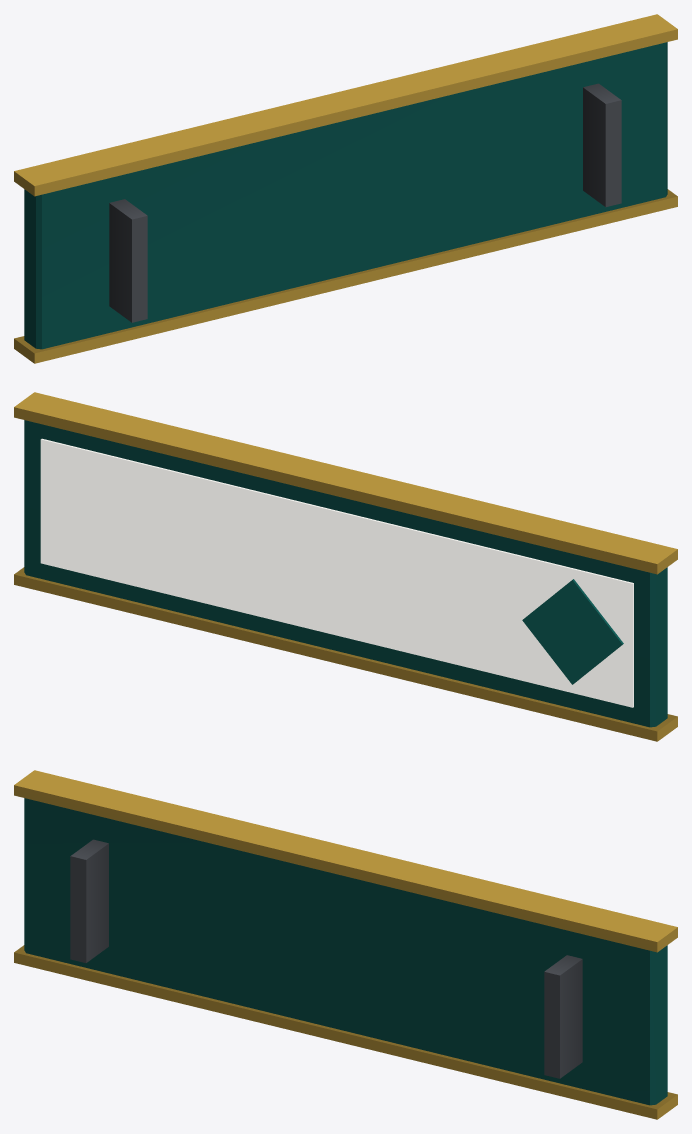
The model's file is sign_building_01.glb.
The picture shows the model from 3 angles, top to bottom: view 1: azimuth 30°, elevation 25°; view 2: azimuth 150°, elevation 25°; view 3: azimuth 330°, elevation 25°; orthographic projection.
Visible parts, largest first — view 1: sign_building_01_mesh; view 2: sign_building_01_lamp, sign_building_01_mesh; view 3: sign_building_01_mesh.
Part boxes in pixels (x1,y1,x2,y2): sign_building_01_mesh: [14, 14, 677, 363]; sign_building_01_lamp: [40, 438, 633, 707]; sign_building_01_mesh: [14, 392, 677, 741]; sign_building_01_mesh: [14, 770, 677, 1119].
Bounding box in the file's own units: 3.26 × 0.86 × 0.362.
2 materials, 2 textured.
